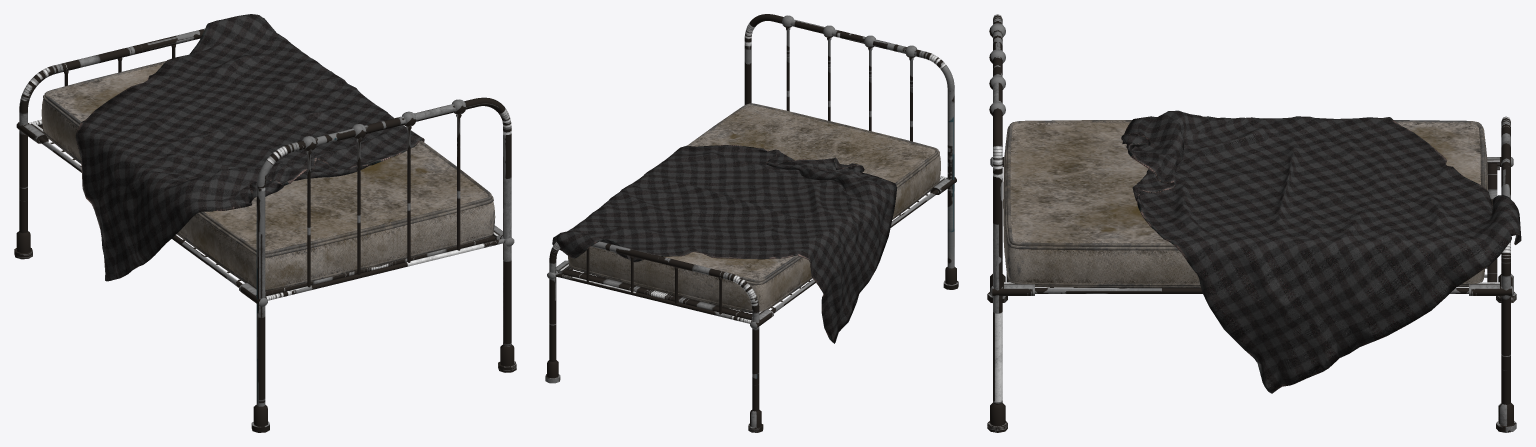
3 renders of one model, left to right at view 1: azimuth 30°, elevation 25°; view 2: azimuth 150°, elevation 25°; view 3: azimuth 270°, elevation 25°, orthographic. The views are drawn at different scales.
Parts seen in each view (by area): view 1: blanket, mattress, bed; view 2: blanket, mattress, bed; view 3: blanket, mattress, bed.
Boxes of the visible parts, x1,y1,x2,y2 form: blanket: (75, 14, 424, 281); mattress: (41, 61, 495, 291); bed: (14, 28, 516, 432); blanket: (552, 145, 897, 343); mattress: (568, 103, 940, 313); bed: (545, 14, 958, 432); blanket: (1121, 110, 1521, 393); mattress: (1003, 120, 1487, 287); bed: (987, 14, 1516, 432).
Size of the model in its own units: 133 by 130 by 210.
